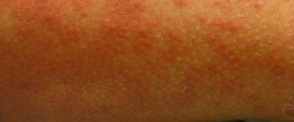SJS-TEN: (13, 0, 282, 112)
